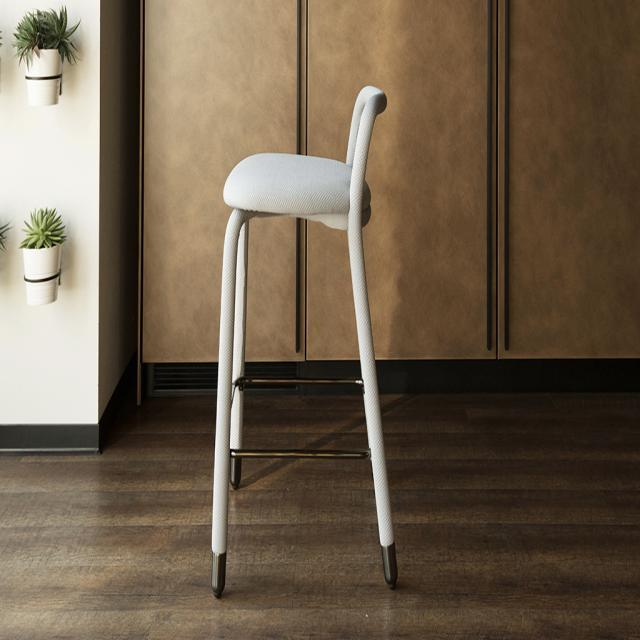chair: (208, 78, 412, 604), (211, 80, 413, 239)
